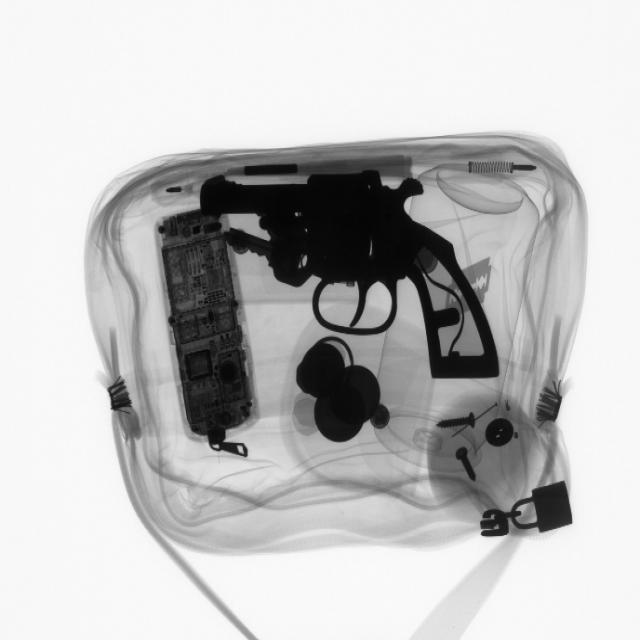BLADE: (446, 260, 501, 320)
GUN: (194, 169, 497, 394)
SCREW: (444, 440, 488, 495), (426, 401, 485, 442)
